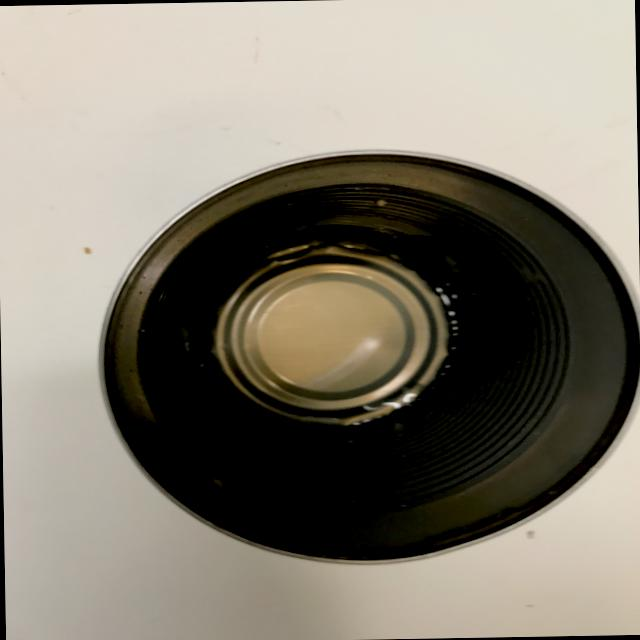Metal: (66, 135, 640, 640)
